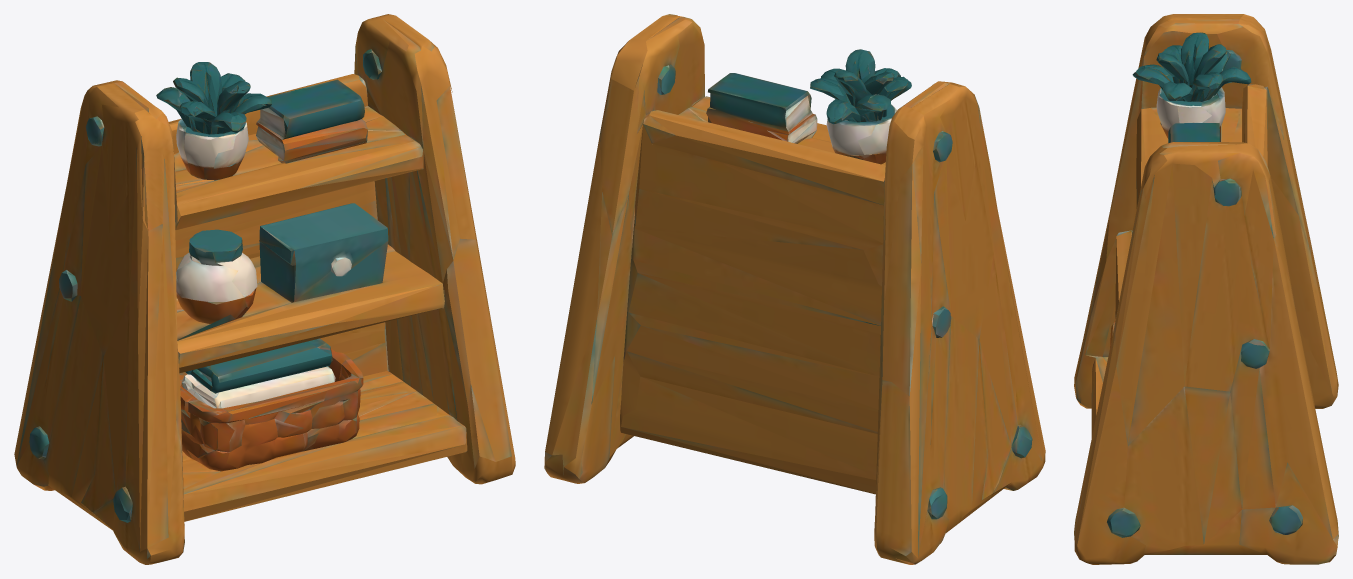
The model's file is wallShelf.glb.
3 renders of one model, left to right at view 1: azimuth 30°, elevation 25°; view 2: azimuth 150°, elevation 25°; view 3: azimuth 270°, elevation 25°, orthographic. The views are drawn at different scales.
Visible parts, largest first — view 1: Mesh_0; view 2: Mesh_0; view 3: Mesh_0.
Part boxes in pixels (<box>): Mesh_0: <box>14,14,515,564</box>; Mesh_0: <box>544,14,1045,564</box>; Mesh_0: <box>1074,14,1338,564</box>.
Size of the model in its own units: 0.934 by 1 by 0.5893.
1 material, 1 textured.
